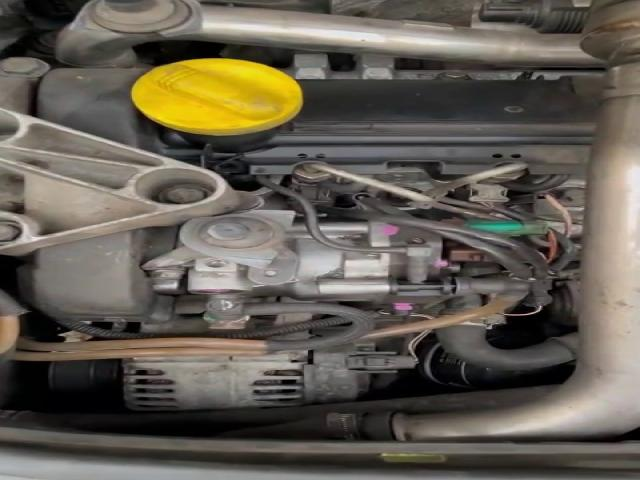alternator: (121, 334, 425, 411)
high_pressure_pump: (182, 217, 461, 316)
